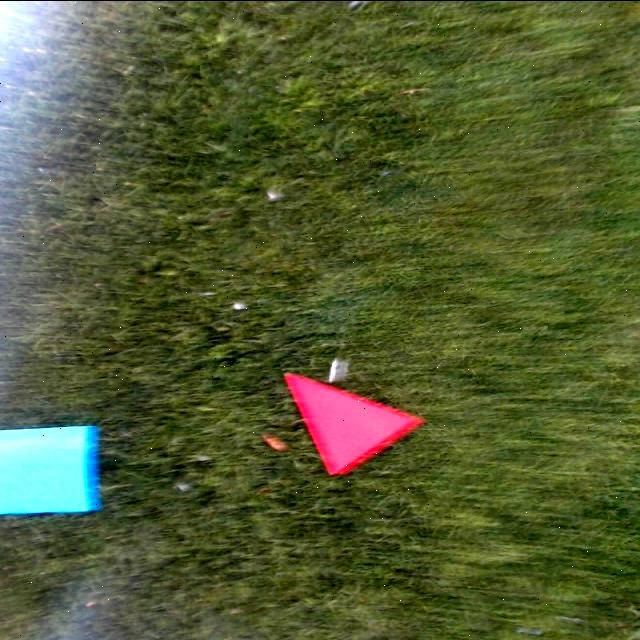red_triangle: (284, 374, 419, 472)
